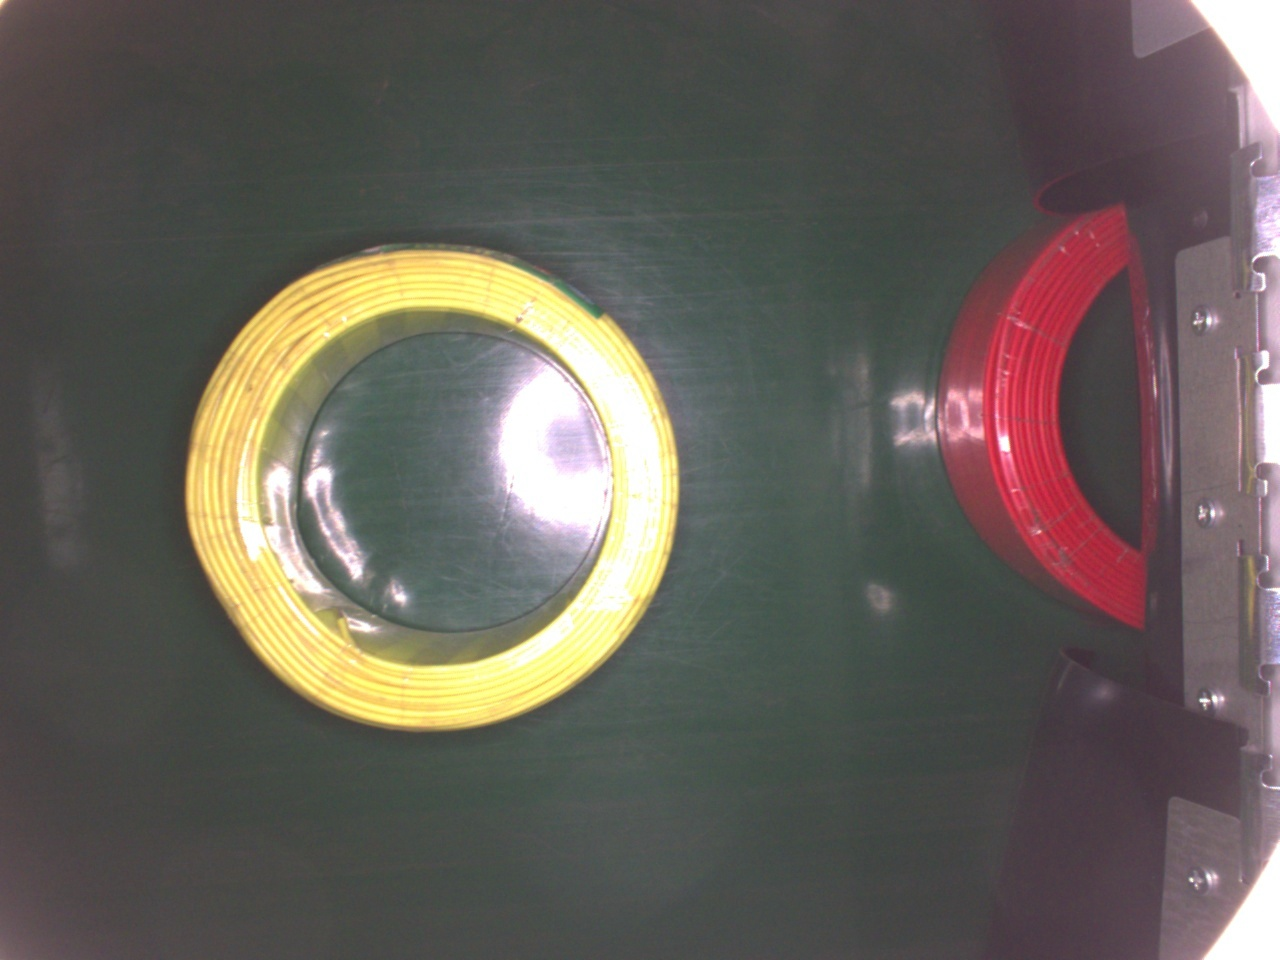red: (932, 198, 1143, 630)
yellow: (187, 236, 680, 731)
